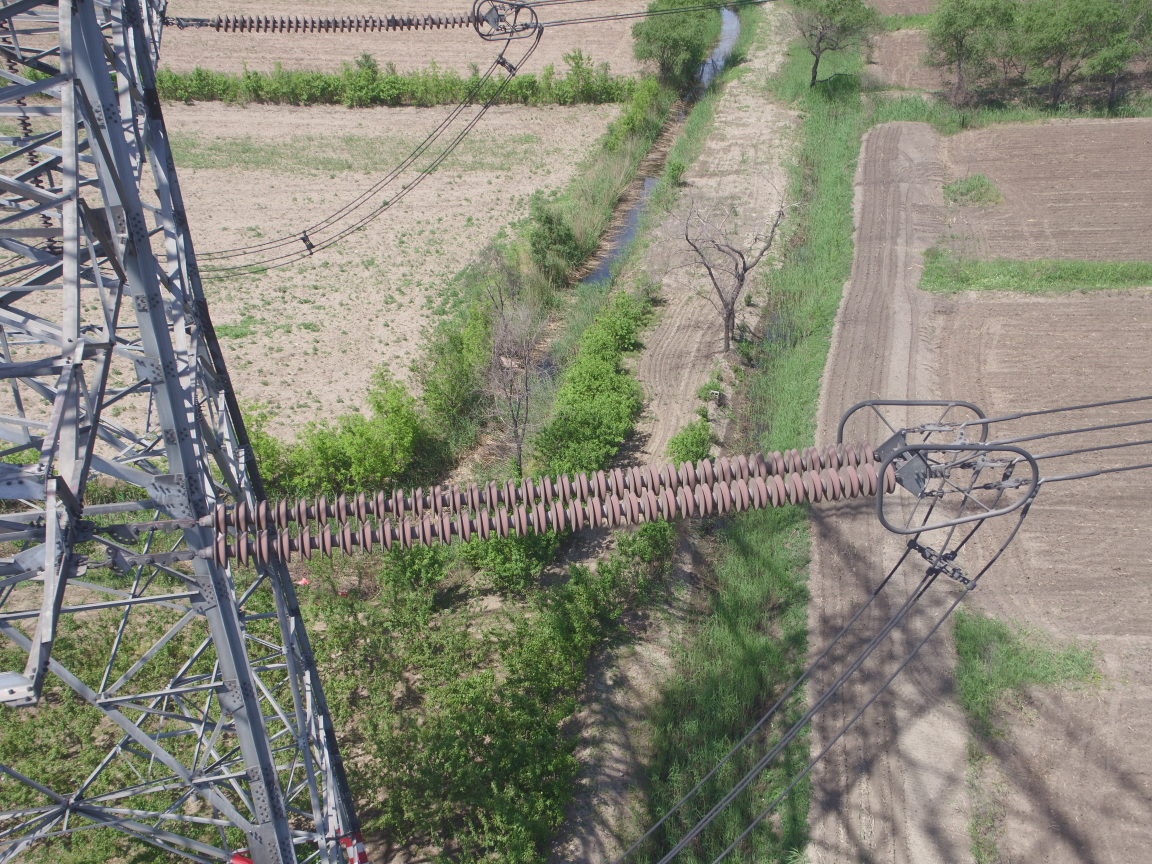insulator: (164, 432, 915, 575)
